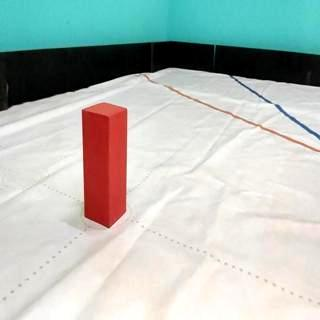redbox: (82, 101, 127, 227)
